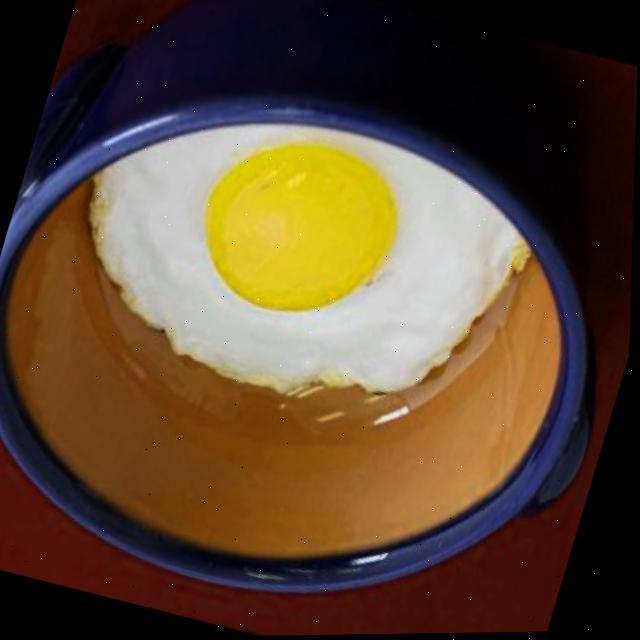鸡蛋料理: (53, 21, 587, 511)
